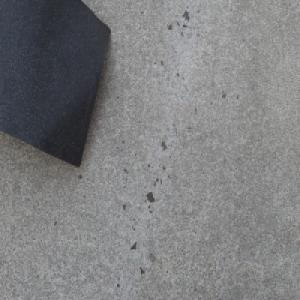PaintChip: (0, 0, 112, 171)
